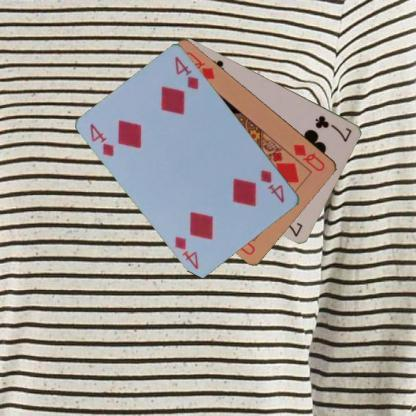4d: (87, 121, 116, 158), (257, 168, 286, 204)
7c: (312, 112, 354, 143)
Qd: (290, 140, 326, 173)
